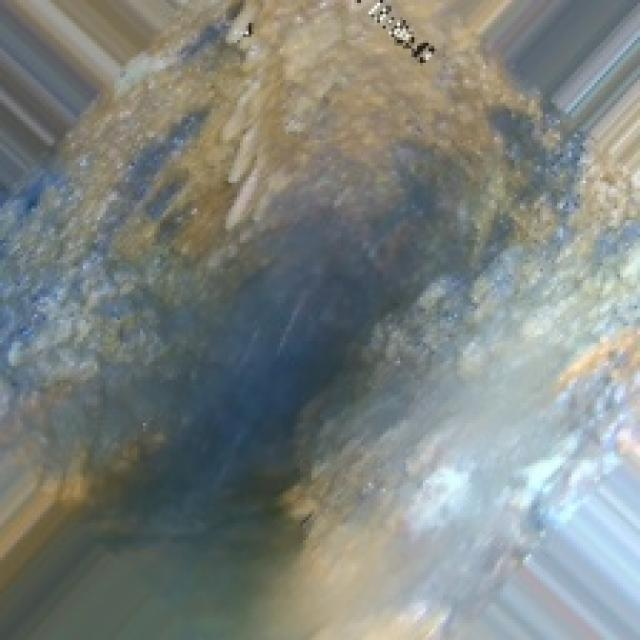encrustation: (192, 43, 572, 506)
